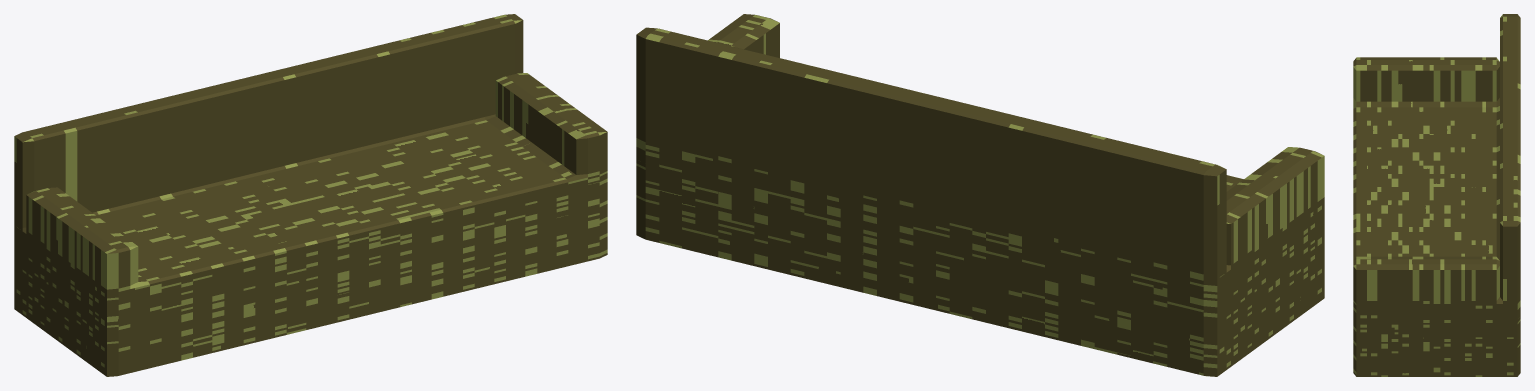
The model's file is Couch.fbx.
3 renders of one model, left to right at view 1: azimuth 30°, elevation 25°; view 2: azimuth 150°, elevation 25°; view 3: azimuth 270°, elevation 25°, orthographic. The views are drawn at different scales.
Visible parts, largest first — view 1: Cube; view 2: Cube; view 3: Cube.
Boxes of the visible parts, x1,y1,x2,y2 form: Cube: (14, 14, 607, 376); Cube: (636, 14, 1324, 376); Cube: (1353, 14, 1520, 376).
Bounding box in the file's own units: 1200 × 404 × 400.
1 material, 1 textured.
